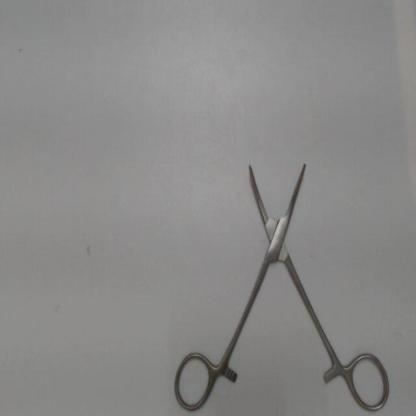Crile Artery Forceps: (169, 150, 394, 413)
